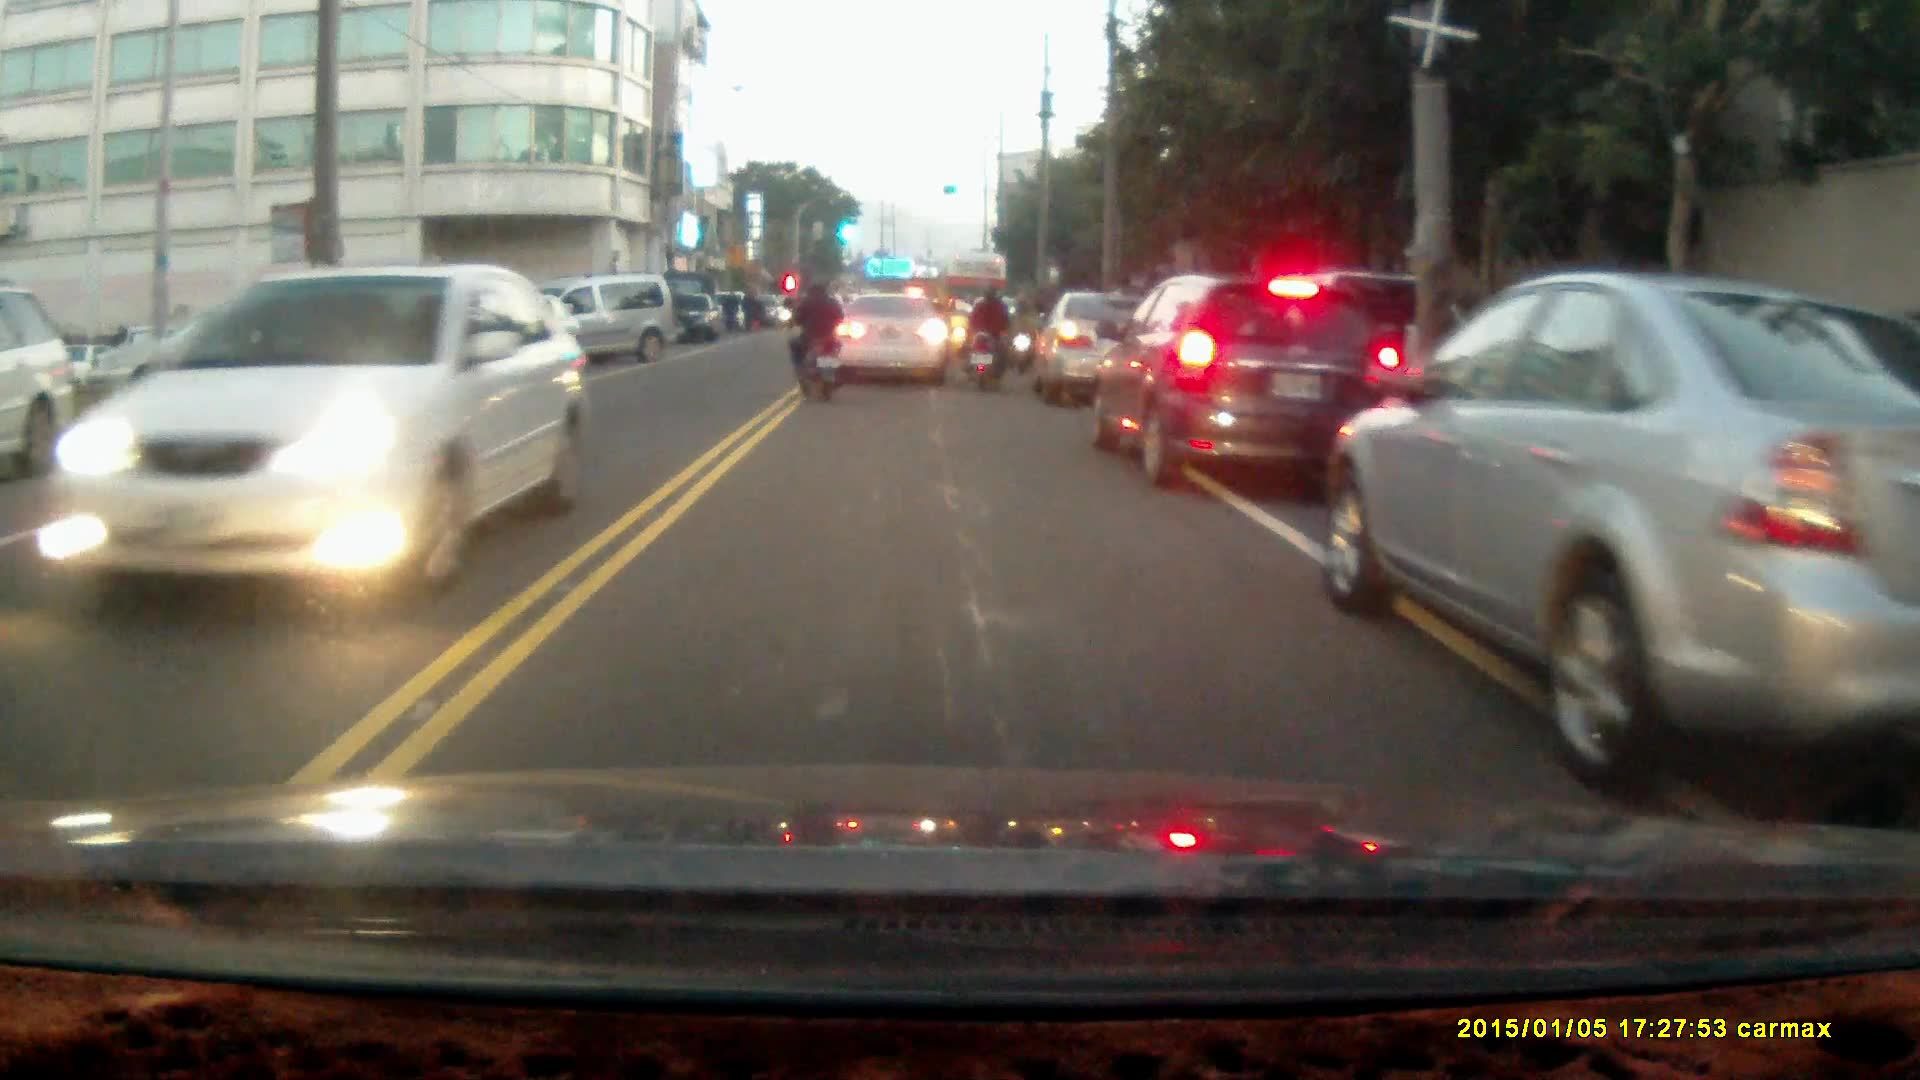rider: (785, 277, 845, 402), (961, 278, 1017, 391)
vehicle: (1338, 266, 1920, 782), (73, 260, 562, 602), (1084, 267, 1403, 486), (1, 284, 77, 476), (1031, 291, 1153, 405), (833, 289, 949, 390), (668, 292, 723, 344)
